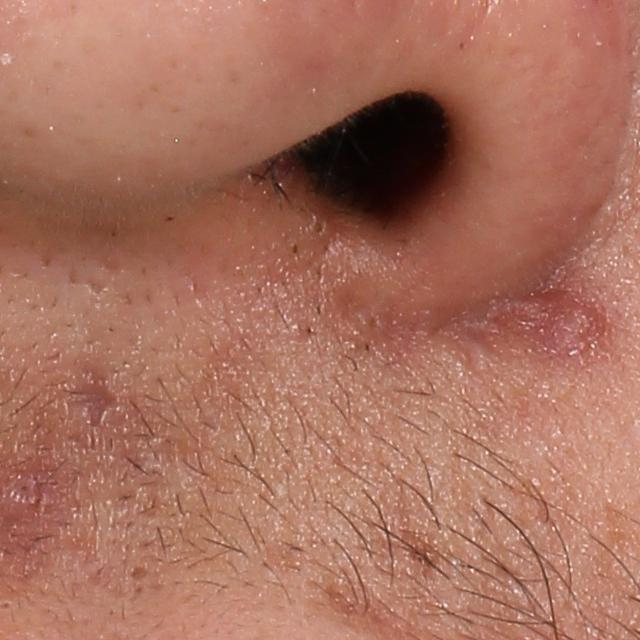atrophic_scar: (64, 363, 124, 425), (323, 576, 380, 630), (127, 562, 149, 580)
